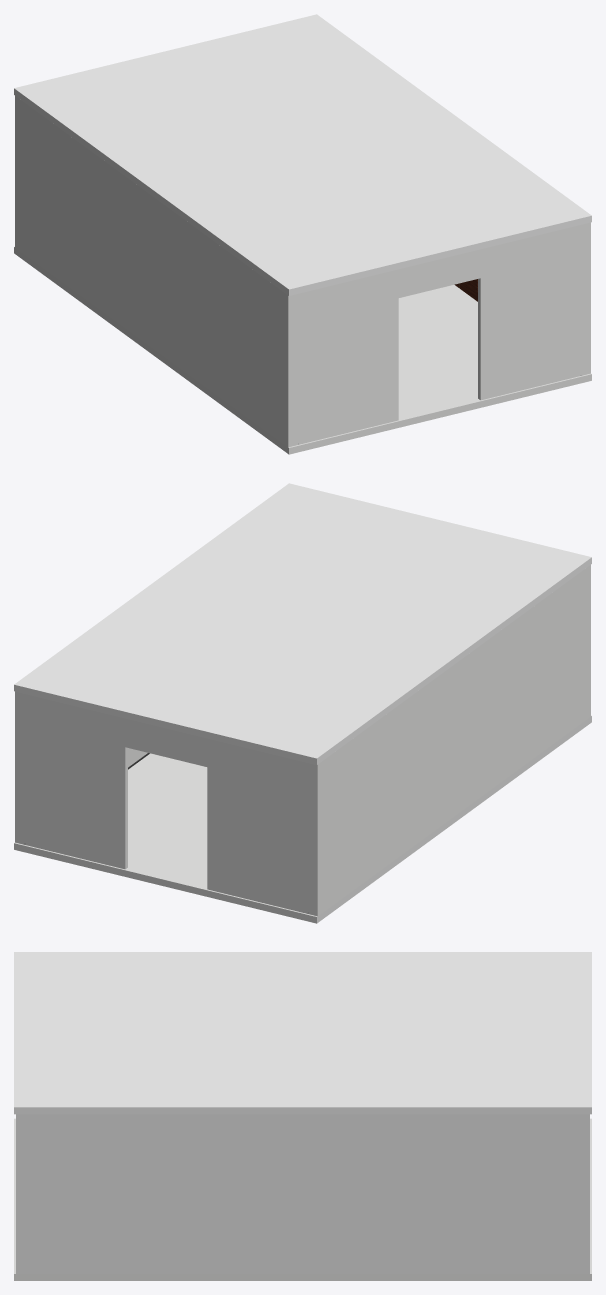
File: room_door_s1.glb
The picture shows the model from 3 angles, top to bottom: view 1: azimuth 30°, elevation 25°; view 2: azimuth 150°, elevation 25°; view 3: azimuth 270°, elevation 25°; orthographic projection. The views are drawn at different scales.
Parts seen in each view (by area): view 1: room_door_s1_static; view 2: room_door_s1_static; view 3: room_door_s1_static.
Boxes of the visible parts, <box> form: room_door_s1_static: <box>14,14,591,454</box>; room_door_s1_static: <box>14,483,591,923</box>; room_door_s1_static: <box>14,952,591,1280</box>.
Bounding box in the file's own units: 9.6 × 5 × 15.1.
12 materials, 2 textured.
